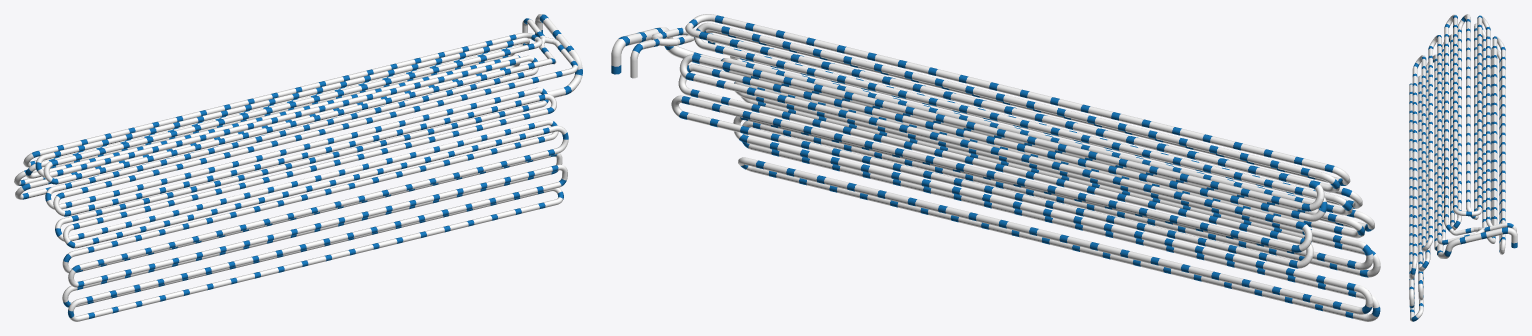
File: Indoor Unite Pipe Flow.fbx
3 views of the same model, side by side, from view 1: azimuth 30°, elevation 25°; view 2: azimuth 150°, elevation 25°; view 3: azimuth 270°, elevation 25° (orthographic). The views are drawn at different scales.
Visible parts, largest first — view 1: Indoor Unite Partical flow, Indoor Unite Small IN Partical flow; view 2: Indoor Unite Partical flow, Indoor Unite Small IN Partical flow; view 3: Indoor Unite Partical flow, Indoor Unite Small IN Partical flow.
Part boxes in pixels (box(x1,y1,x2,y2)): Indoor Unite Partical flow: box(14, 18, 577, 321); Indoor Unite Small IN Partical flow: box(535, 14, 582, 97); Indoor Unite Partical flow: box(630, 14, 1380, 321); Indoor Unite Small IN Partical flow: box(611, 27, 722, 74); Indoor Unite Partical flow: box(1409, 14, 1516, 321); Indoor Unite Small IN Partical flow: box(1437, 227, 1517, 258).
Bounding box in the file's own units: 0.8322 × 0.2096 × 0.1784.
2 materials, 2 textured.
